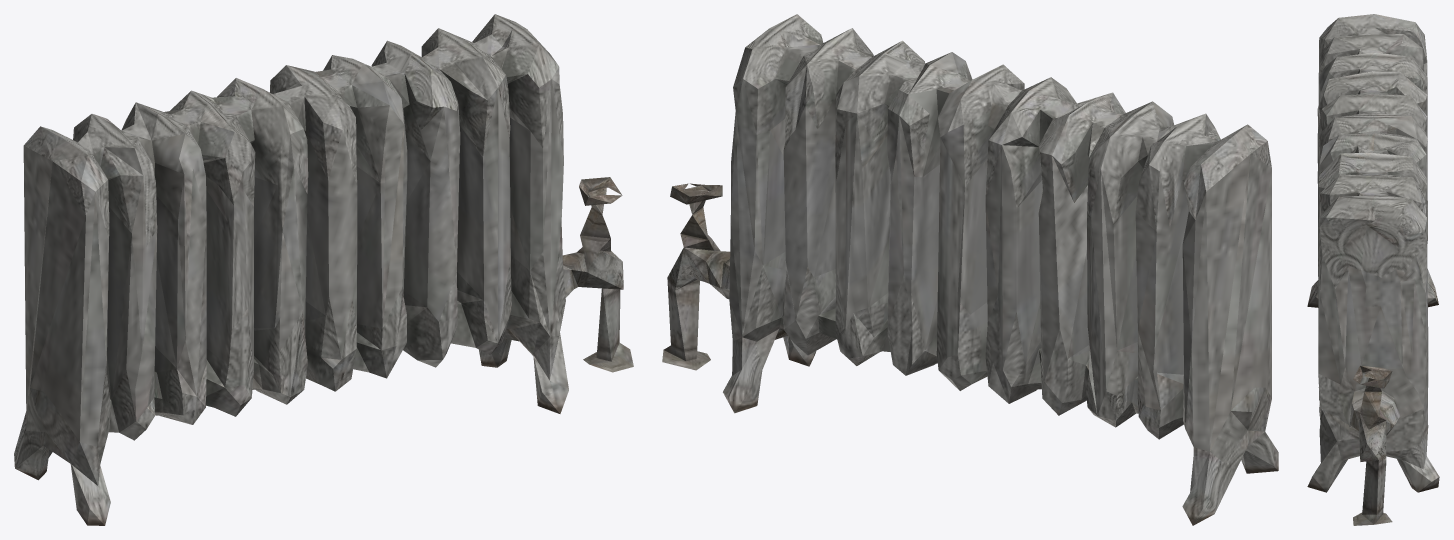
The model's file is radiator.glb.
3 views of the same model, side by side, from view 1: azimuth 30°, elevation 25°; view 2: azimuth 150°, elevation 25°; view 3: azimuth 270°, elevation 25° (orthographic). The views are drawn at different scales.
Visible parts, largest first — view 1: Mesh_0; view 2: Mesh_0; view 3: Mesh_0.
Boxes of the visible parts, x1,y1,x2,y2 form: Mesh_0: [14, 14, 633, 525]; Mesh_0: [662, 14, 1278, 525]; Mesh_0: [1307, 14, 1439, 525].
Size of the model in its own units: 1.89 by 1.1 by 0.4494.
Materials: 1 (1 with a texture image).
